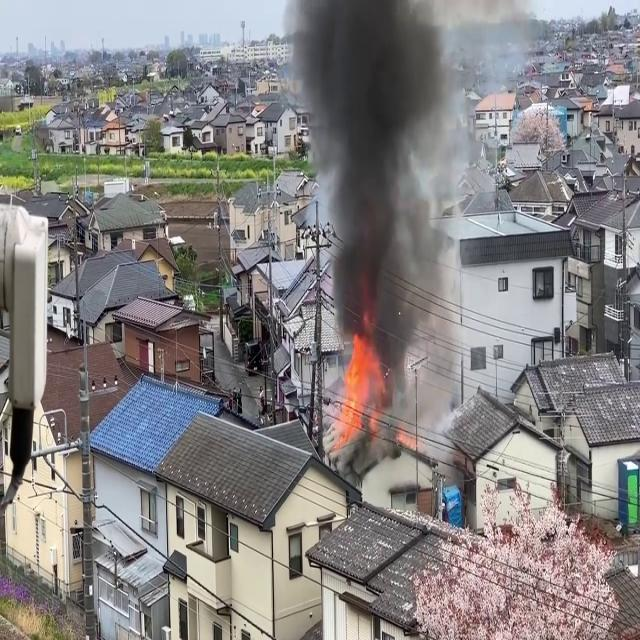Fire: (328, 330, 380, 450)
Smoke: (294, 0, 476, 391)
